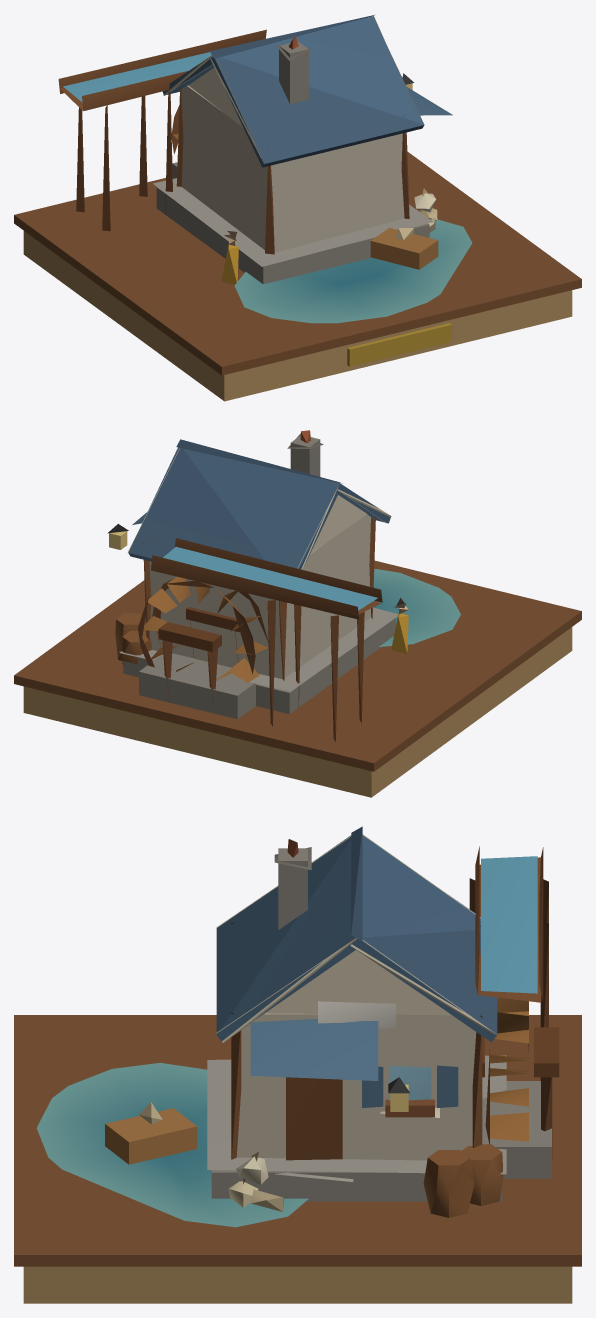
Rendered from watermill_souvenir.glb.
3 renders of one model, top to bottom at view 1: azimuth 30°, elevation 25°; view 2: azimuth 150°, elevation 25°; view 3: azimuth 270°, elevation 25°, orthographic. The views are drawn at different scales.
Parts seen in each view (by area): view 1: decor-watermill_souvenir; view 2: decor-watermill_souvenir; view 3: decor-watermill_souvenir.
Boxes of the visible parts, x1,y1,x2,y2 form: decor-watermill_souvenir: (14, 14, 581, 401); decor-watermill_souvenir: (14, 430, 581, 797); decor-watermill_souvenir: (14, 826, 581, 1303).
Size of the model in its own units: 1.76 by 1.17 by 1.76.
